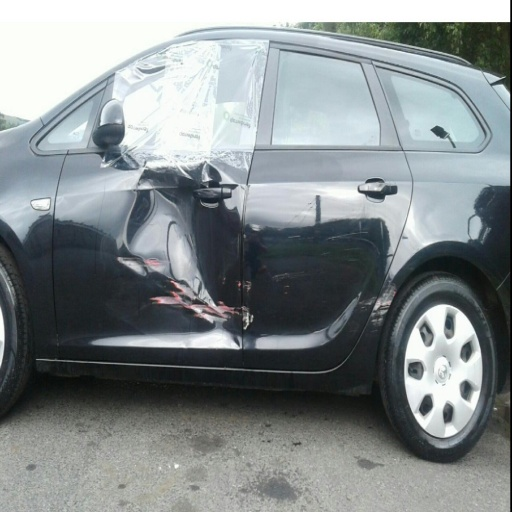dent: (101, 155, 246, 357)
scratch: (327, 220, 368, 240), (339, 236, 380, 255), (117, 255, 146, 275), (270, 270, 307, 282), (380, 220, 385, 255), (251, 220, 261, 233), (342, 247, 363, 251), (237, 233, 240, 260), (299, 236, 314, 241), (287, 235, 302, 239), (347, 257, 359, 262), (320, 251, 330, 256), (240, 234, 242, 254), (283, 284, 290, 288), (243, 233, 246, 240), (283, 292, 288, 294)
